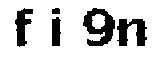9: (77, 5, 115, 48)
f: (10, 5, 35, 54)
i: (46, 4, 72, 51)
n: (116, 15, 150, 52)
